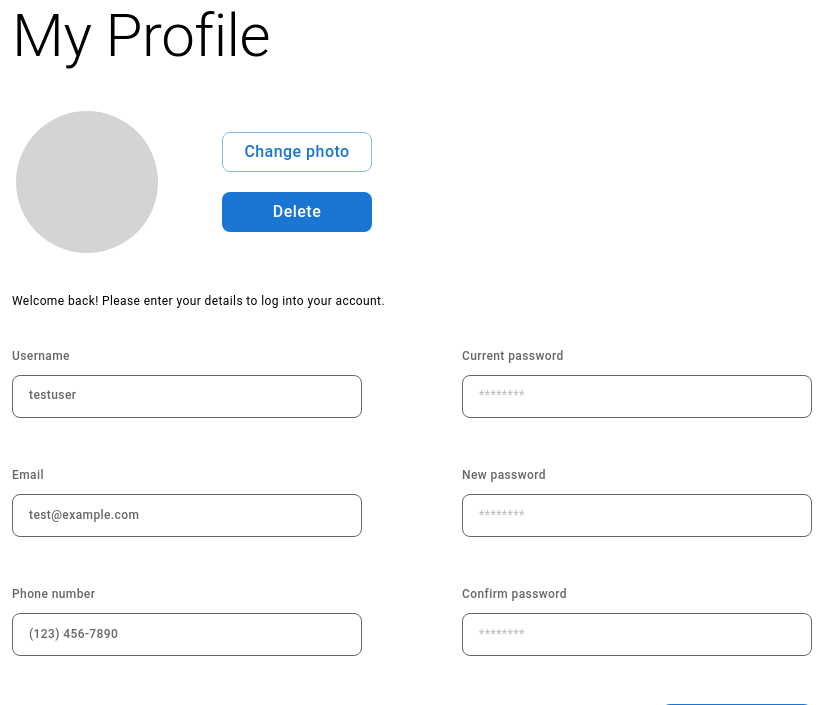
Test case: Settings Page › displays validation errors for invalid form submission
Replace the text in the field with placeholder "Jane Meldrum" below "Username" with "ab" at [187, 396], box [29,388,345,405]
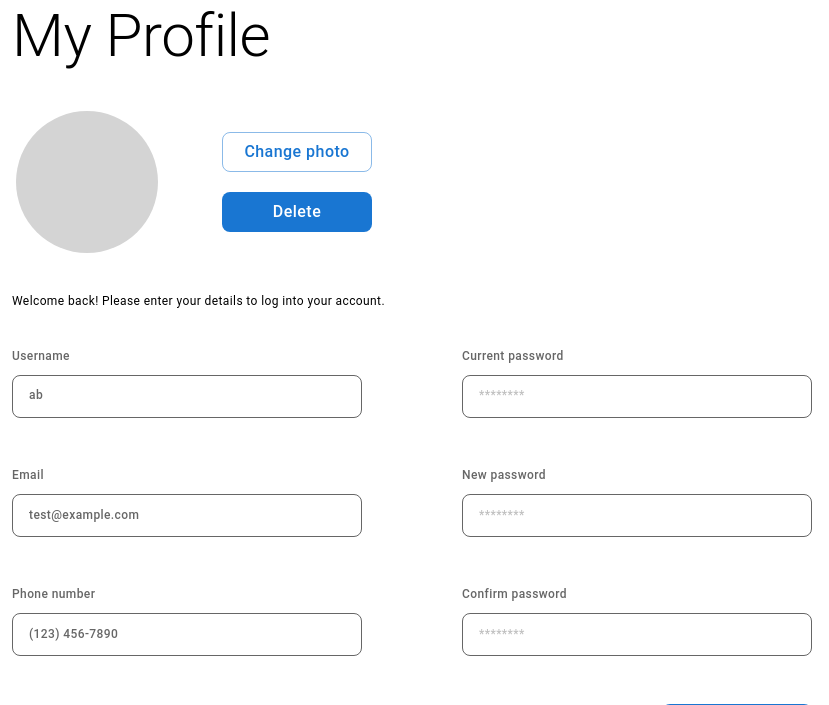
Replace the text in the field with placeholder "example@gmail.com" below "Email" with "invalid-email" at [187, 516], box [29,507,345,524]
(page scrolled)
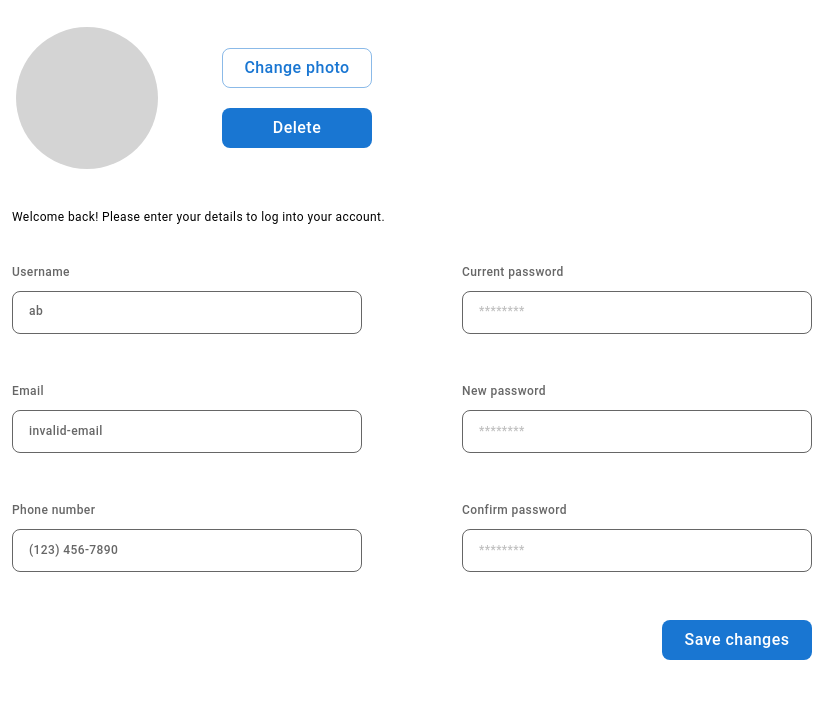
Click the button "Save changes" at [737, 640], box [662,620,812,660]
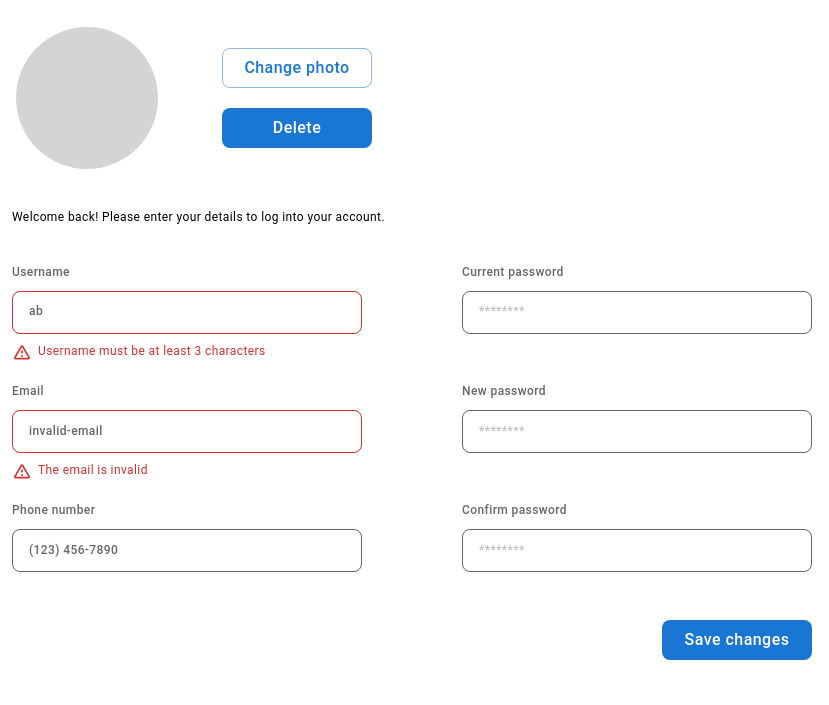
Check: the text "Username must be at least 3 characters" is shown, box [38,342,266,362]
Check: the text "The email is invalid" is shown, box [38,461,148,481]
